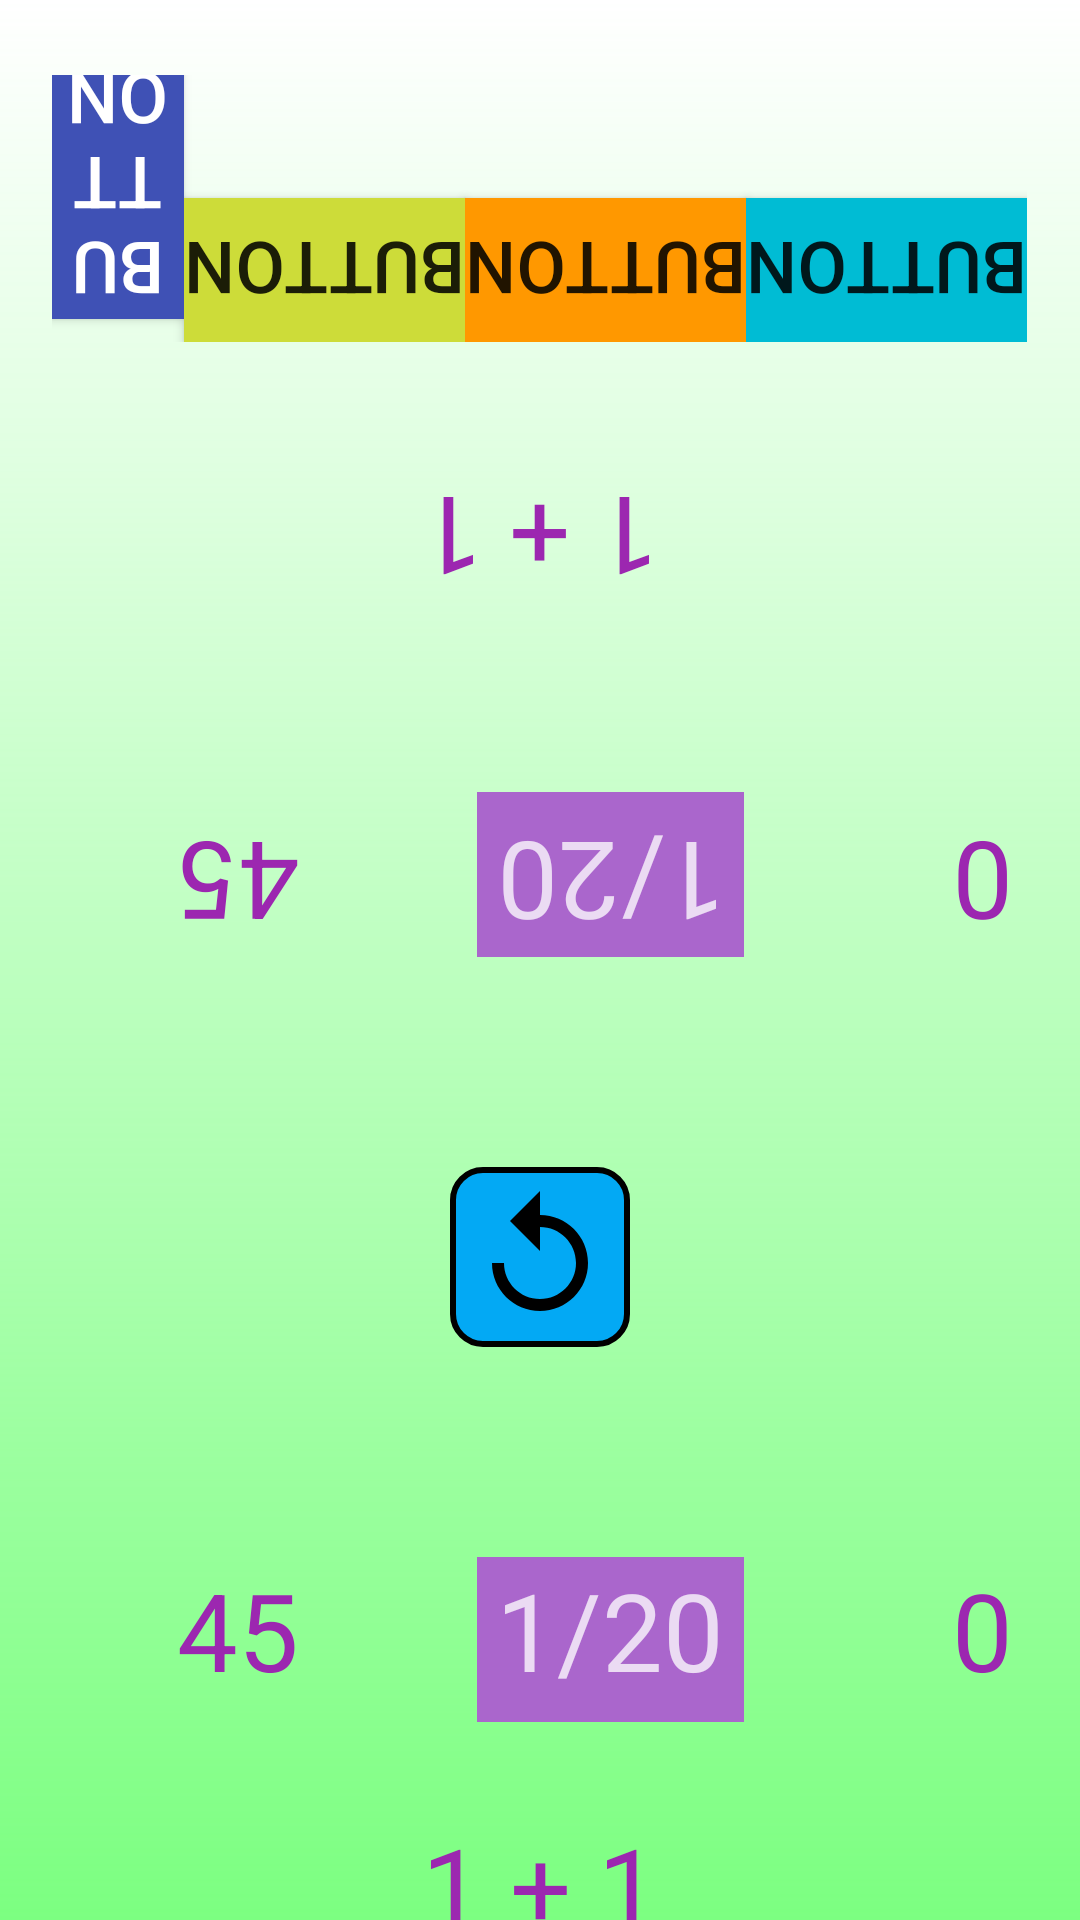

Screen size 1080px x 1920px. Icon name, then its box in pixels as (x1, y1, x2, y2):
replay: (450, 1167, 630, 1347)
